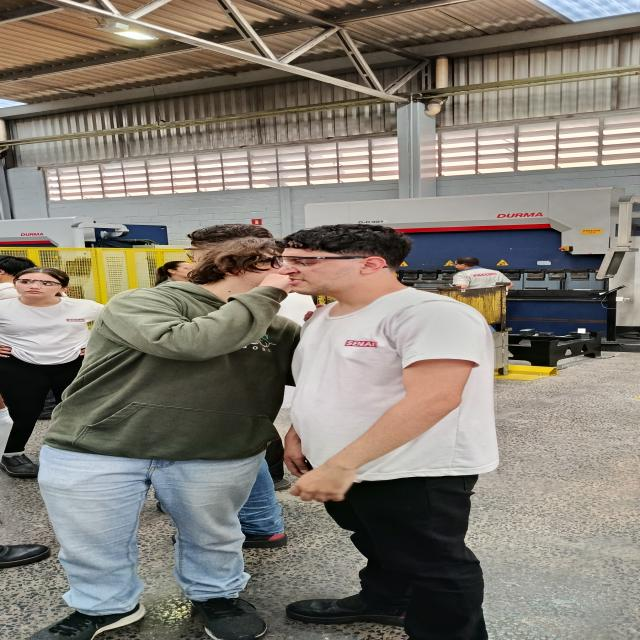oculos-epi: (277, 257, 369, 271), (15, 280, 67, 289), (183, 248, 201, 256), (453, 264, 459, 266)
